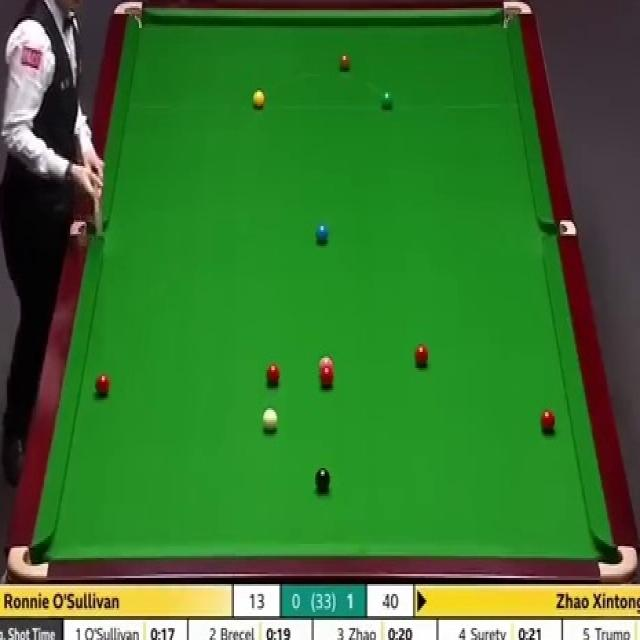black-ball: (314, 468, 331, 492)
blue-ball: (316, 225, 327, 245)
brown-ball: (336, 53, 352, 73)
green-ball: (380, 89, 393, 110)
pink-ball: (318, 356, 331, 376)
red-ball: (539, 408, 555, 435), (93, 376, 110, 398), (414, 345, 428, 367), (320, 370, 333, 392), (266, 366, 280, 386)
white-ball: (261, 406, 279, 434)
yellow-ball: (252, 89, 265, 108)
